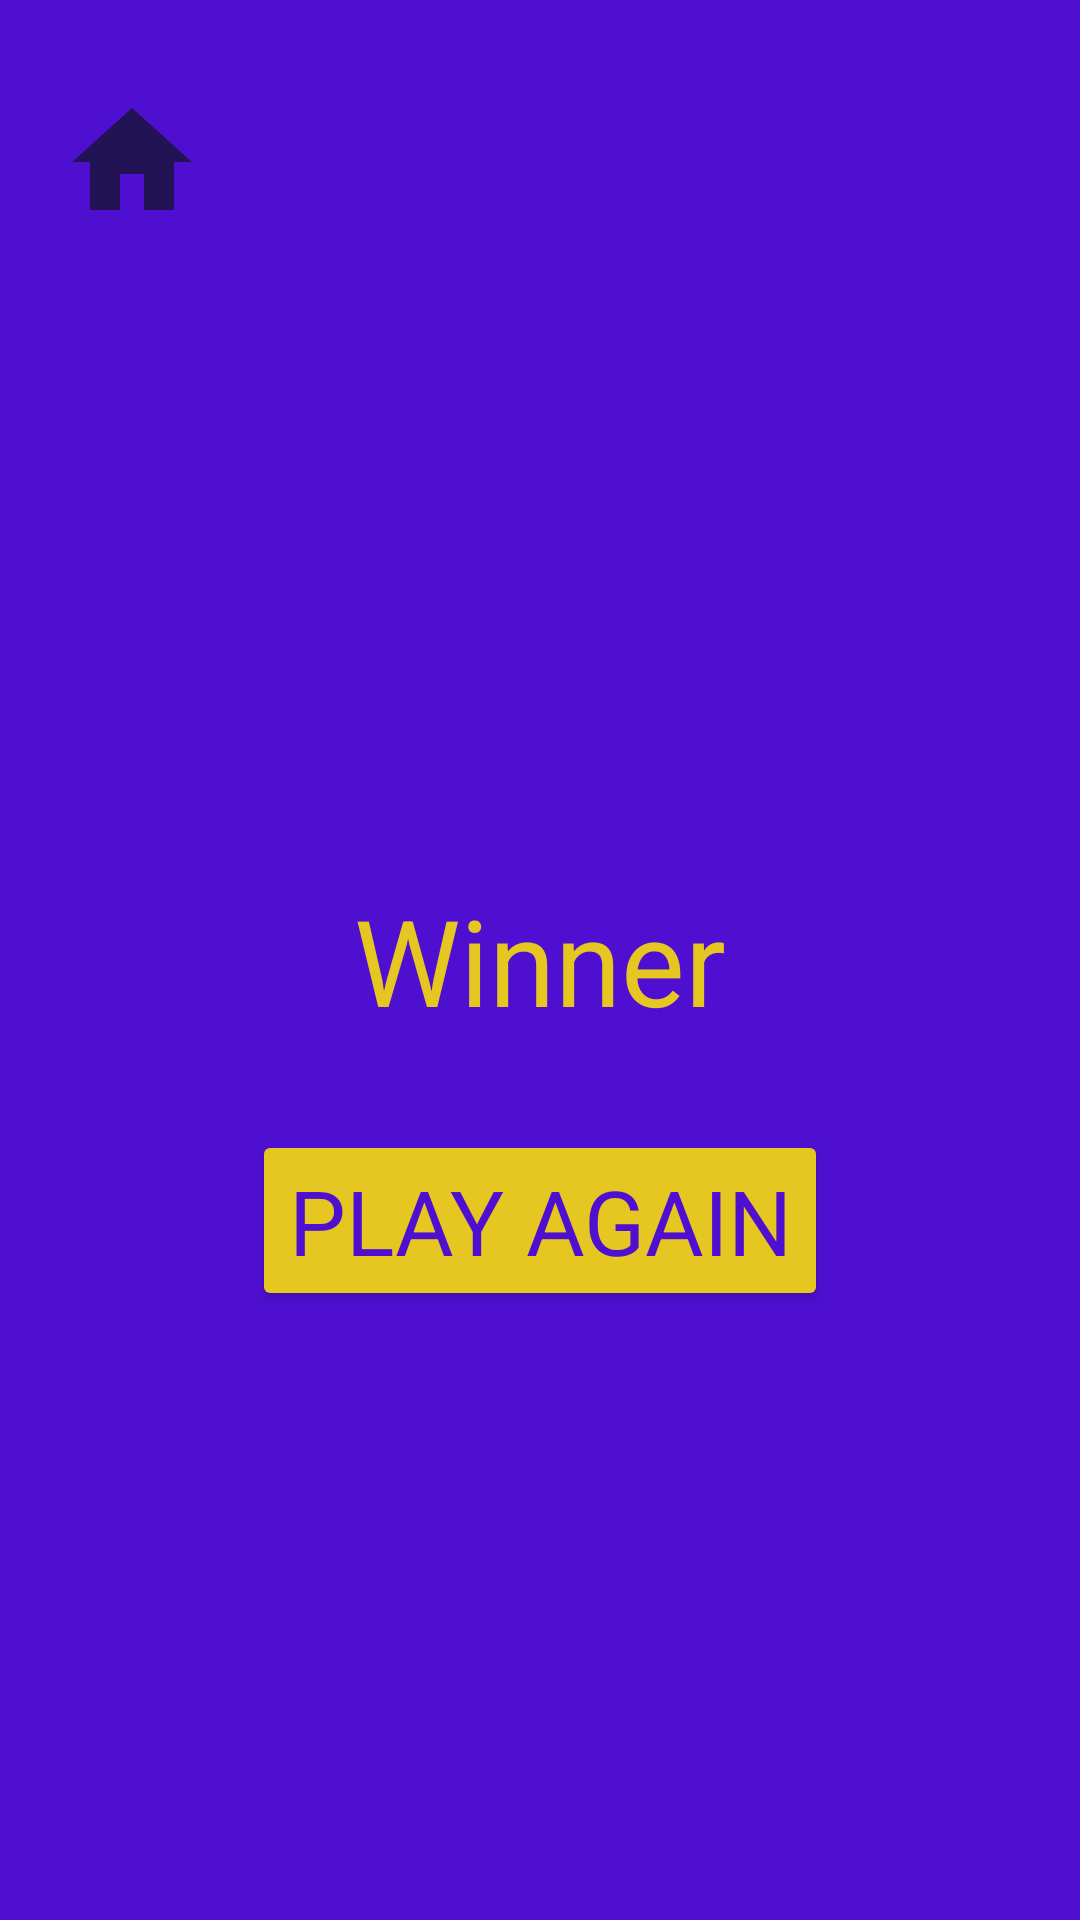

Icon click points for this 1080px×1920px phone screenshot, format (x,y):
go to home: (132,159)
